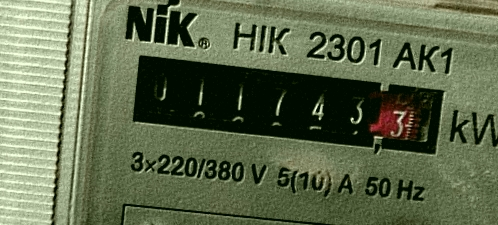0: (149, 67, 172, 105)
1: (232, 77, 250, 112), (195, 73, 208, 107)
3: (345, 91, 367, 128), (388, 108, 409, 142)
4: (308, 87, 328, 123)
7: (269, 83, 291, 118)
screen: (117, 42, 458, 169)
